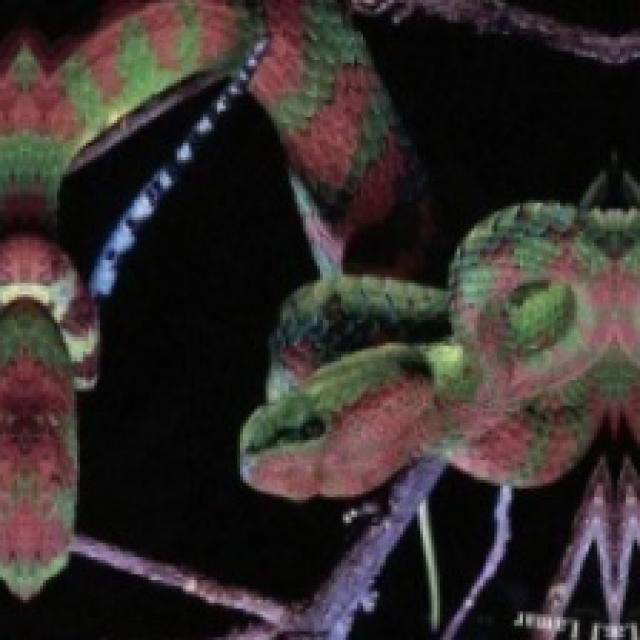philippine pitviper: (0, 0, 434, 591), (240, 174, 637, 551), (99, 141, 192, 279)
